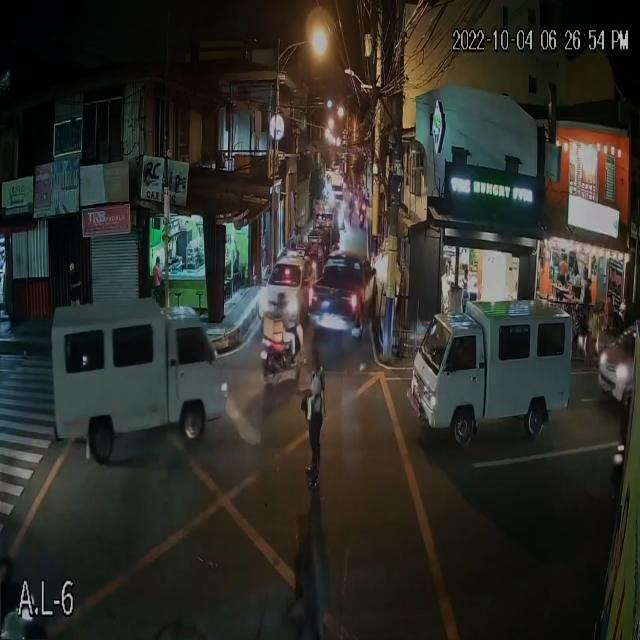Full-Faced: (276, 289, 287, 310)
